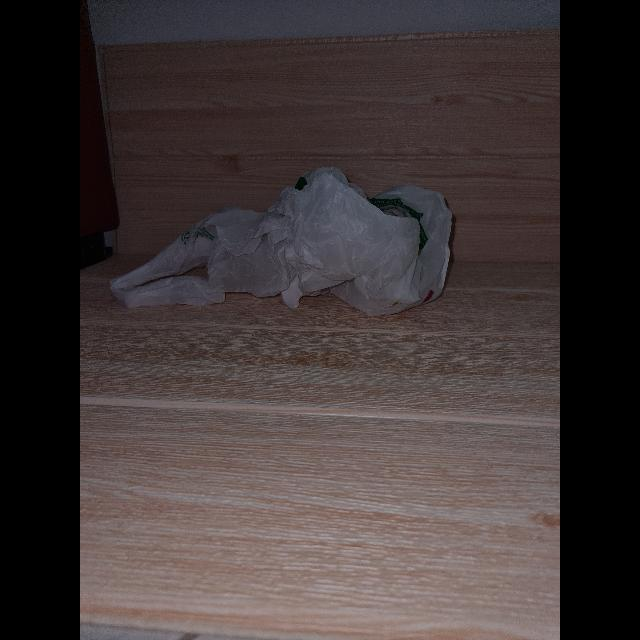plastic_bag: (116, 168, 464, 324)
